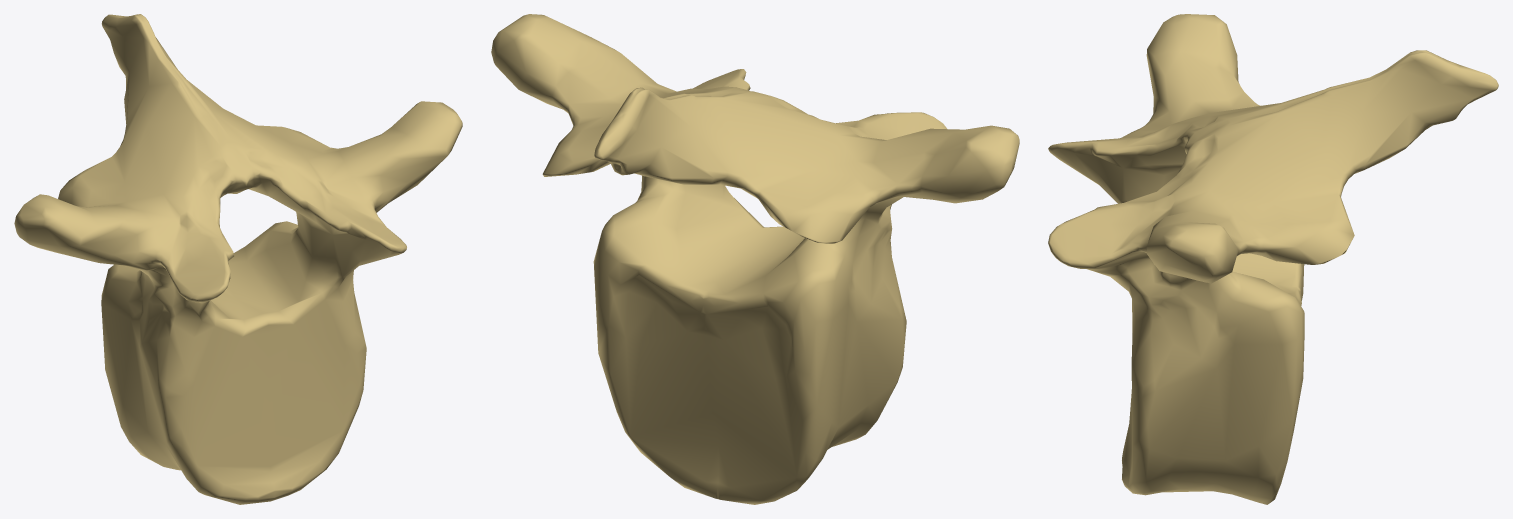
3 views of the same model, side by side, from view 1: azimuth 30°, elevation 25°; view 2: azimuth 150°, elevation 25°; view 3: azimuth 270°, elevation 25° (orthographic). The views are drawn at different scales.
Parts seen in each view (by area): view 1: 第七胸椎; view 2: 第七胸椎; view 3: 第七胸椎.
Boxes of the visible parts, box(x1,y1,x2,y2) form: 第七胸椎: box(14, 14, 462, 504); 第七胸椎: box(491, 14, 1019, 504); 第七胸椎: box(1048, 14, 1498, 504).
Size of the model in its own units: 0.1129 by 0.0981 by 0.0911.
